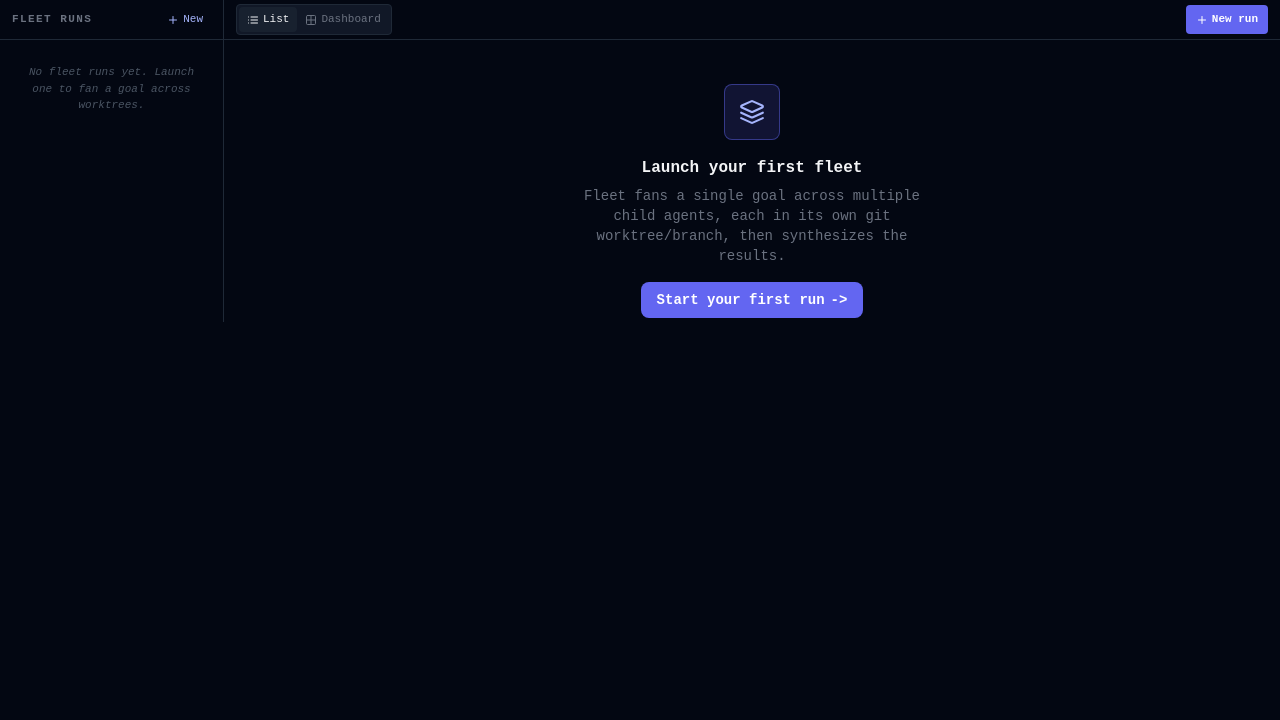
Test case: FleetTab › launches a run via the launch drawer (mocked POST /api/fleet)
expect the text "No fleet runs yet" is shown: met, box x1=29 y1=66 x2=194 y2=111
// Open the launch drawer.
Click the button "Start your first run ->": [752, 300] box x1=641 y1=282 x2=863 y2=318
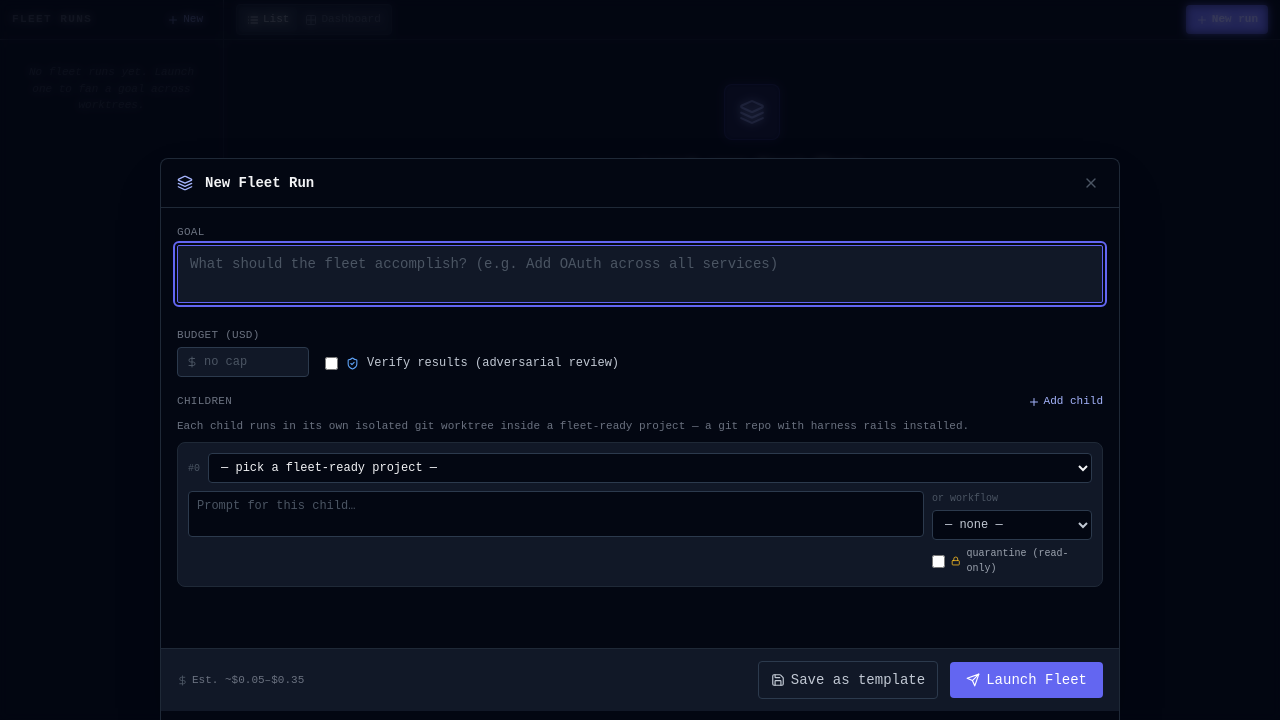
// Fill the goal + the first child's cwd + prompt.
In the text box with placeholder "What should the fleet accomplish": [640, 274] box x1=177 y1=245 x2=1103 y2=303, type "Add OAuth across services"
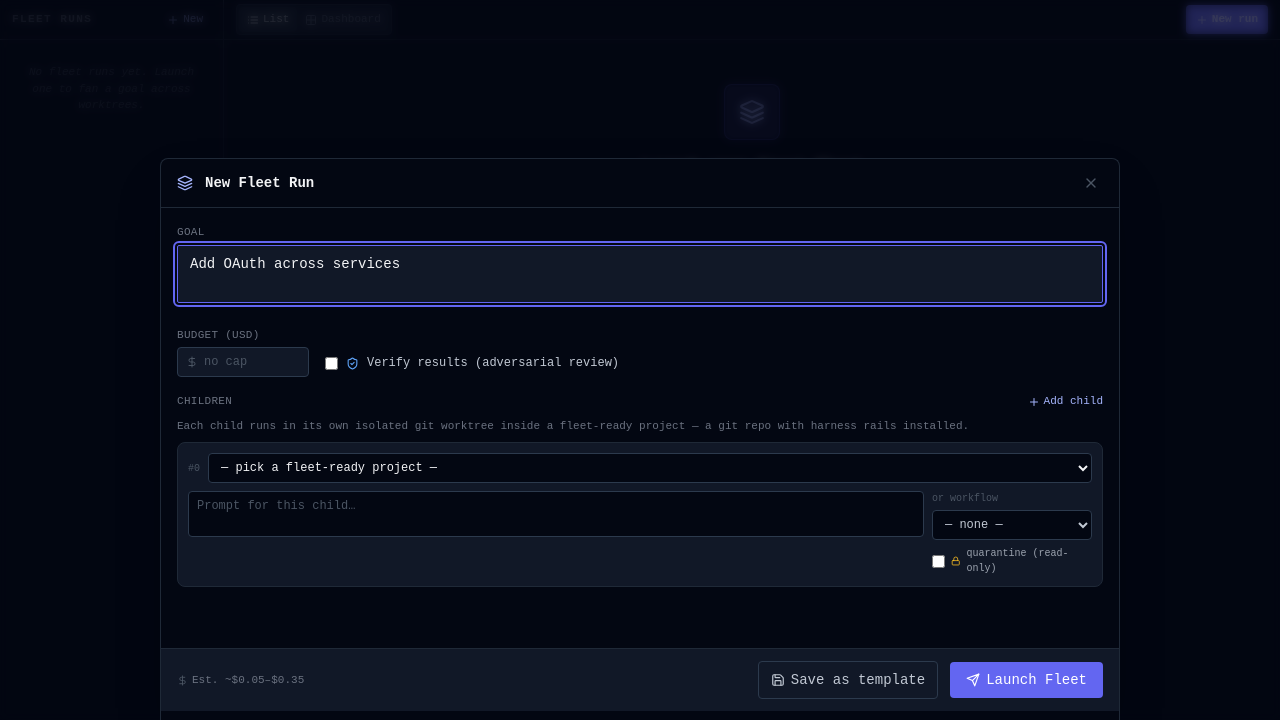
Select "a — C:/proj/a" in the dropdown named "child 0 working directory": [650, 468] box x1=208 y1=453 x2=1092 y2=483
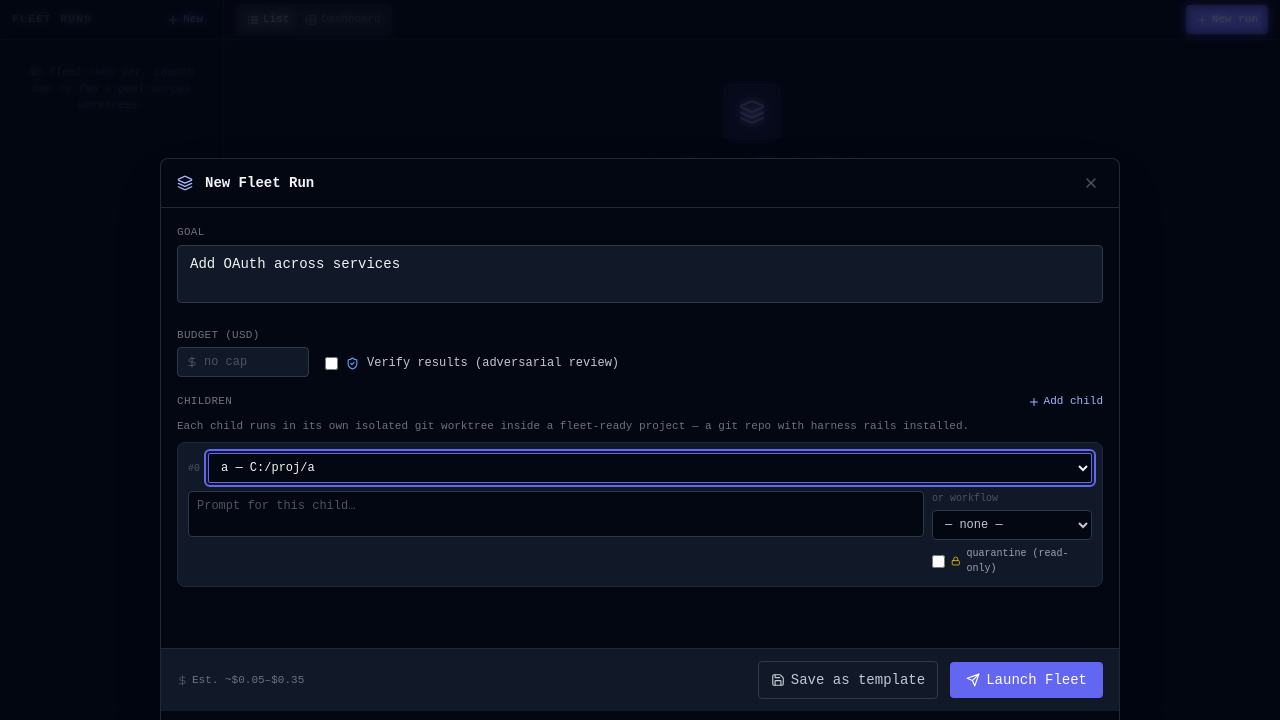
In the text box named "child 0 prompt": [556, 514] box x1=188 y1=491 x2=924 y2=537, type "Add OAuth to A"
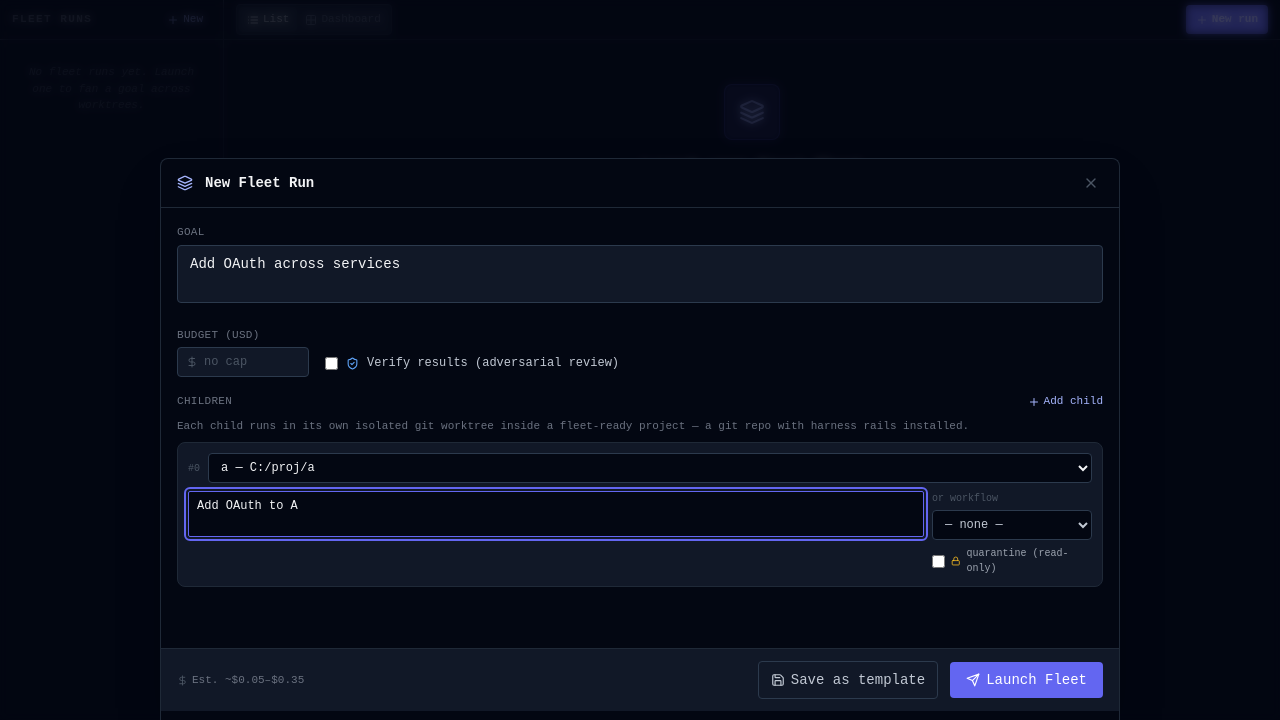
Click the button "Launch Fleet": [1027, 680] box x1=950 y1=662 x2=1103 y2=698
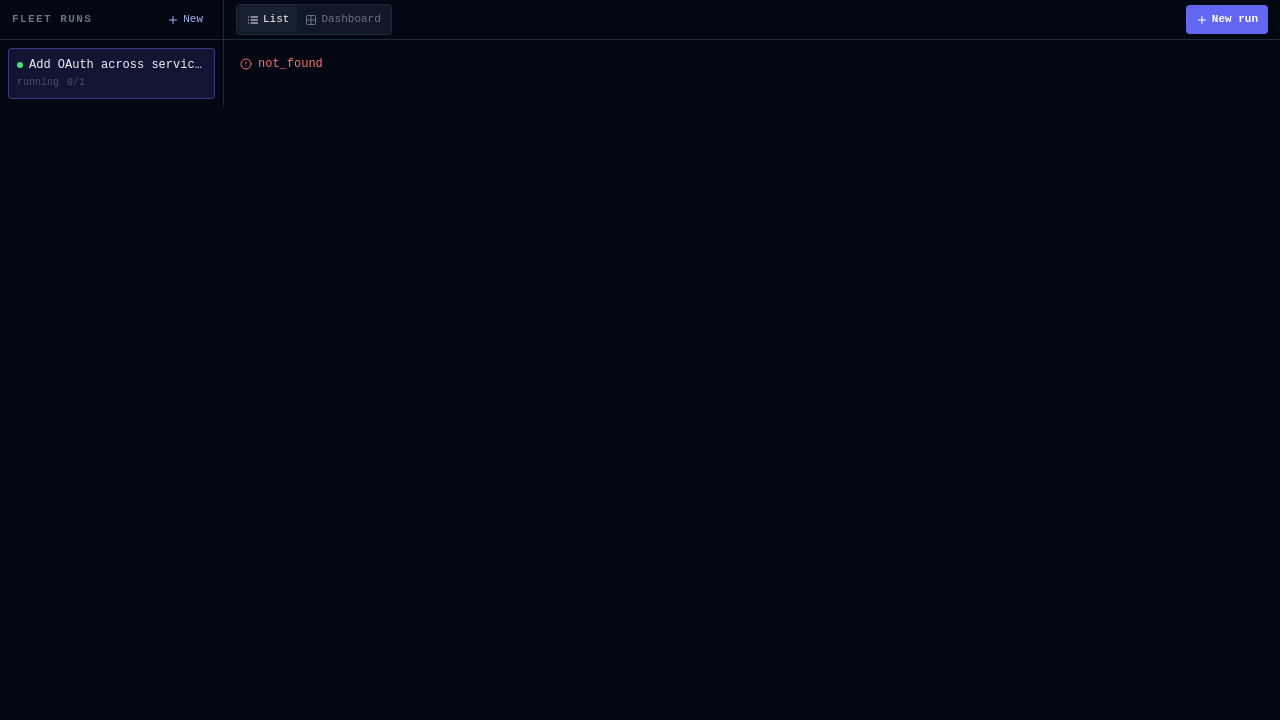
expect the text "Add OAuth across services" is shown: met, box x1=29 y1=57 x2=206 y2=73
